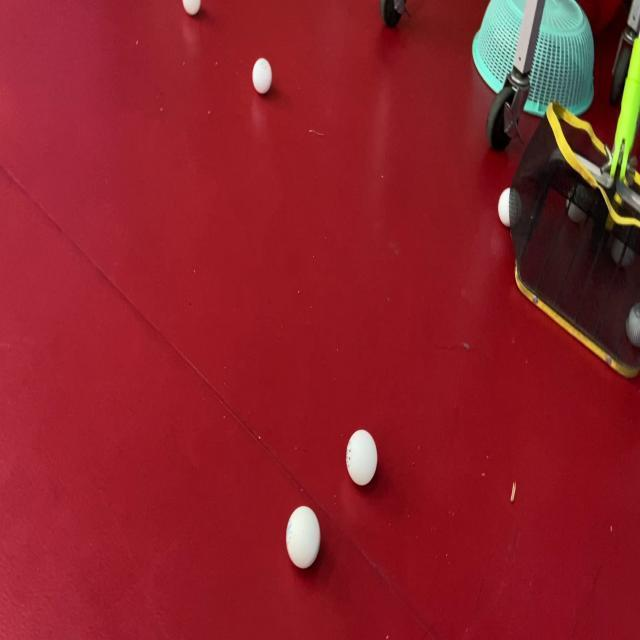ping-pong-ball: (284, 503, 322, 571), (346, 428, 378, 488), (497, 186, 523, 227), (252, 56, 274, 96)
